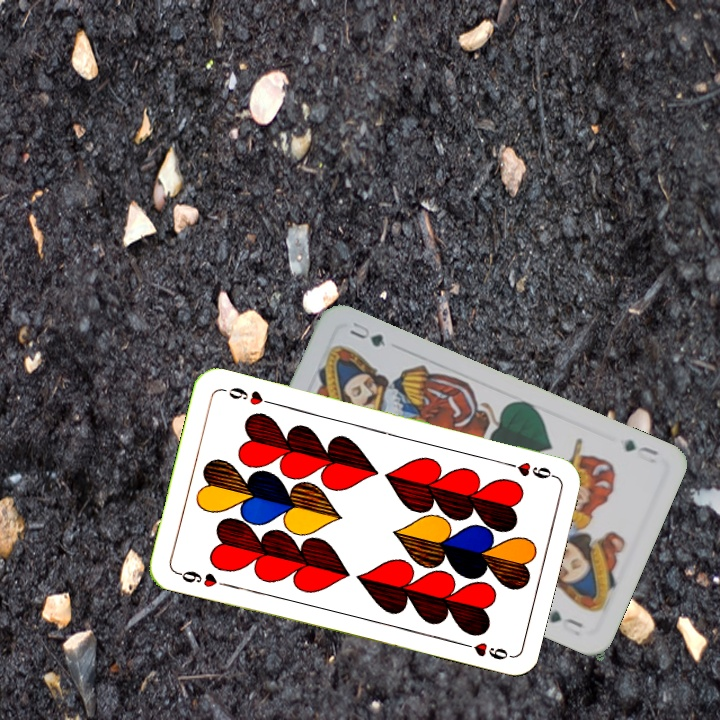GU: (620, 435, 662, 466)
H9: (498, 457, 557, 482), (172, 566, 231, 590)
